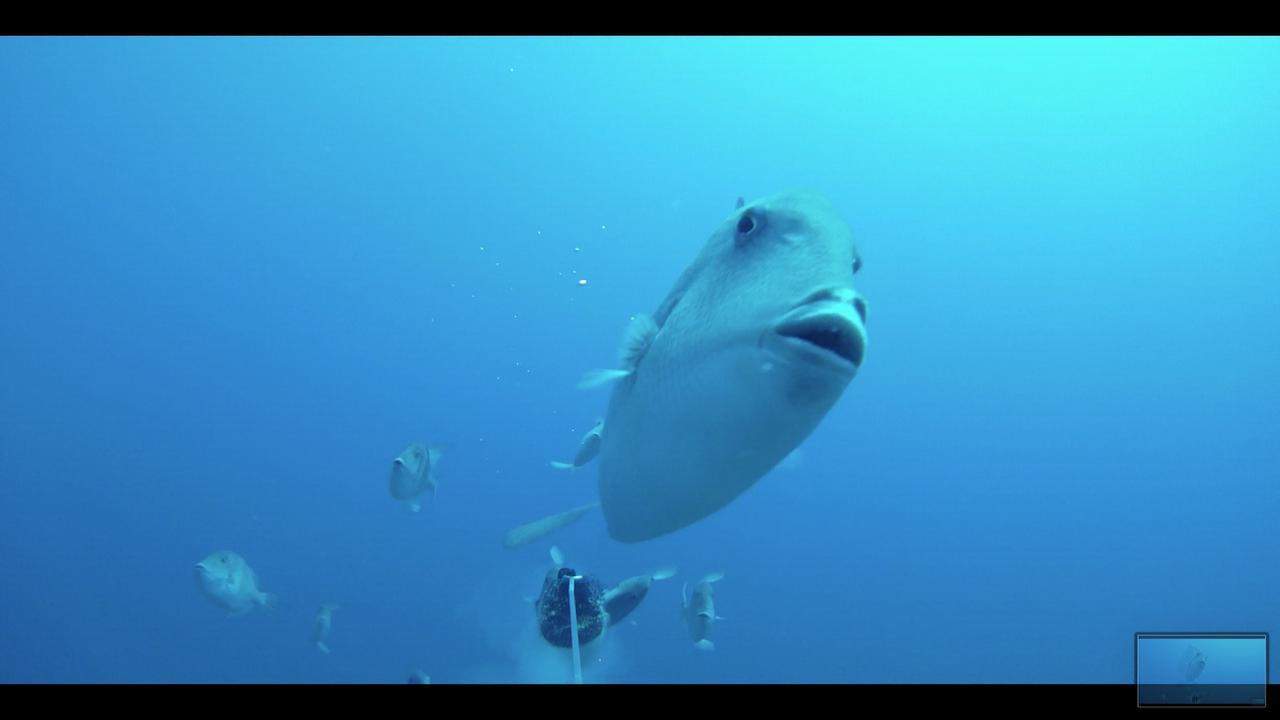balistes: (552, 189, 865, 547), (182, 542, 281, 624), (379, 437, 447, 525), (672, 562, 730, 650)
